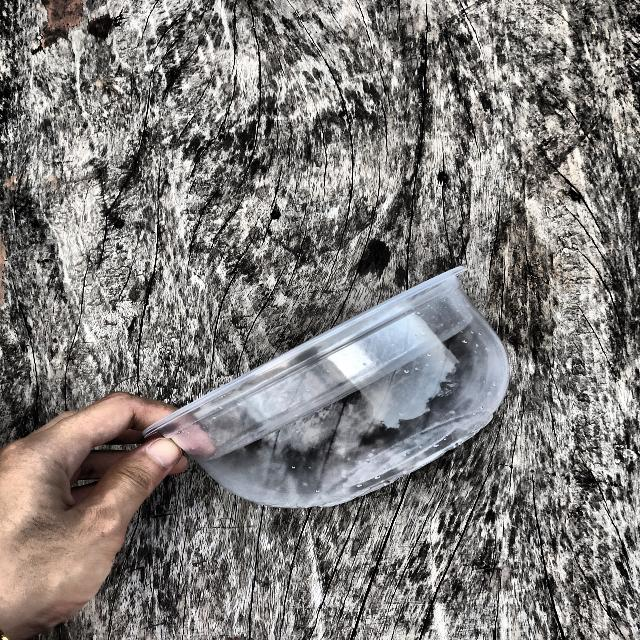plastic container: (140, 239, 542, 548)
